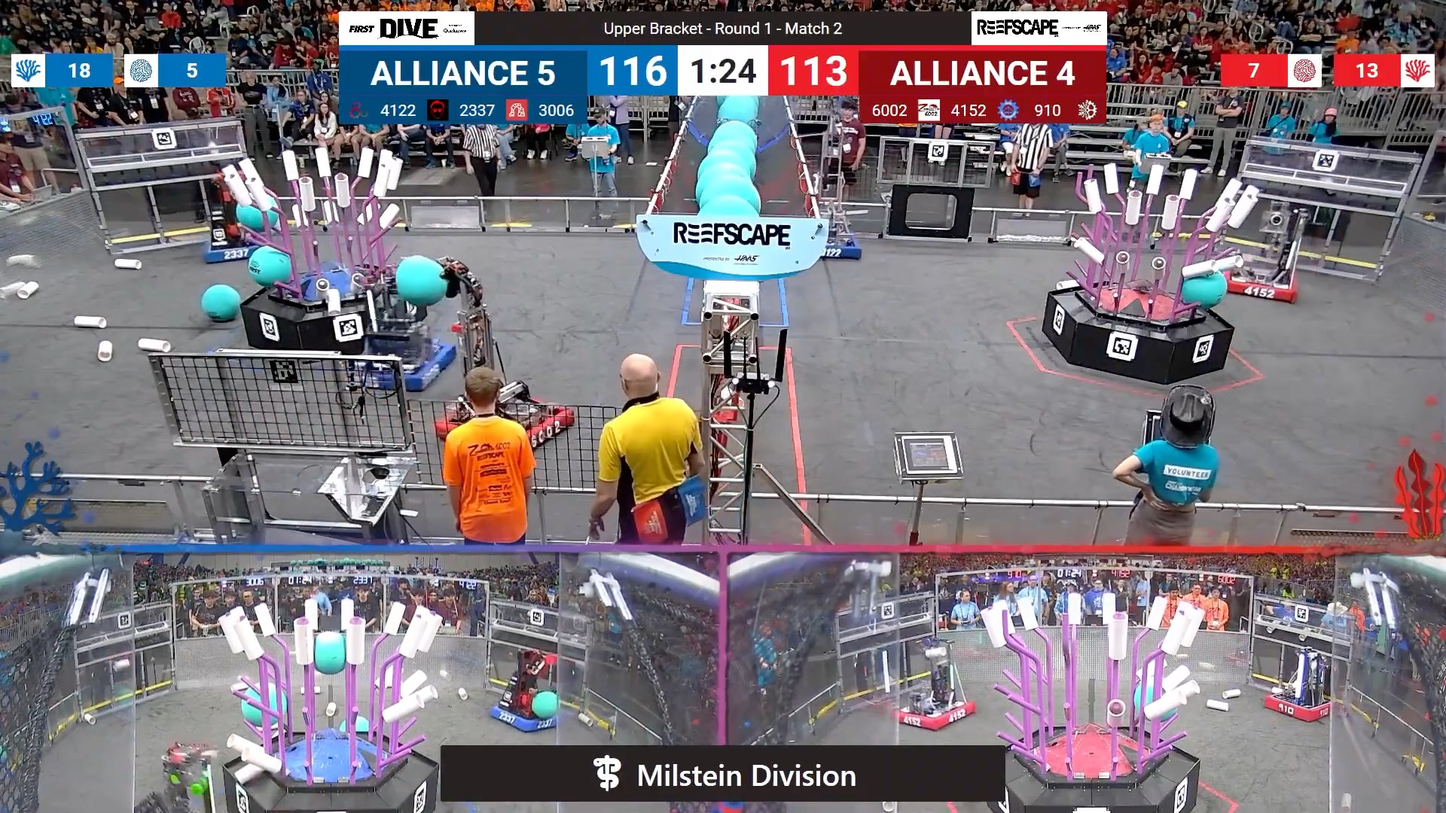bumpers: (432, 396, 577, 457), (340, 340, 462, 394), (1211, 264, 1309, 306), (889, 695, 981, 732), (483, 701, 567, 736), (1255, 692, 1344, 725), (194, 236, 271, 266), (802, 228, 868, 261)
